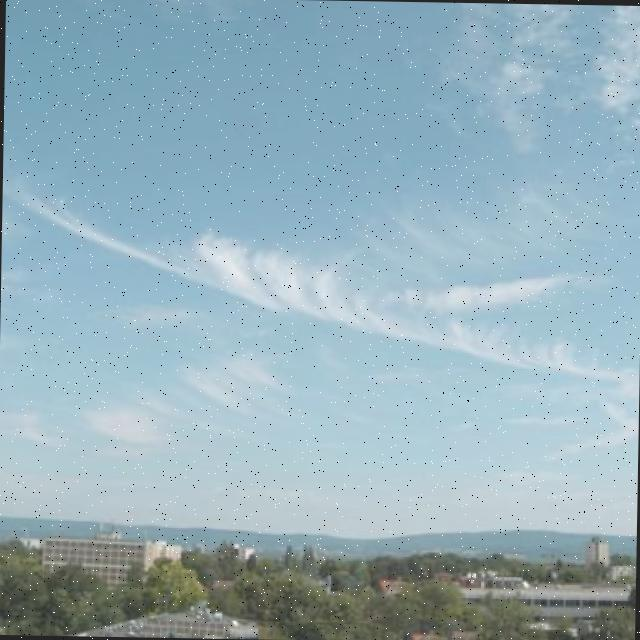Ci: (13, 164, 630, 402)
